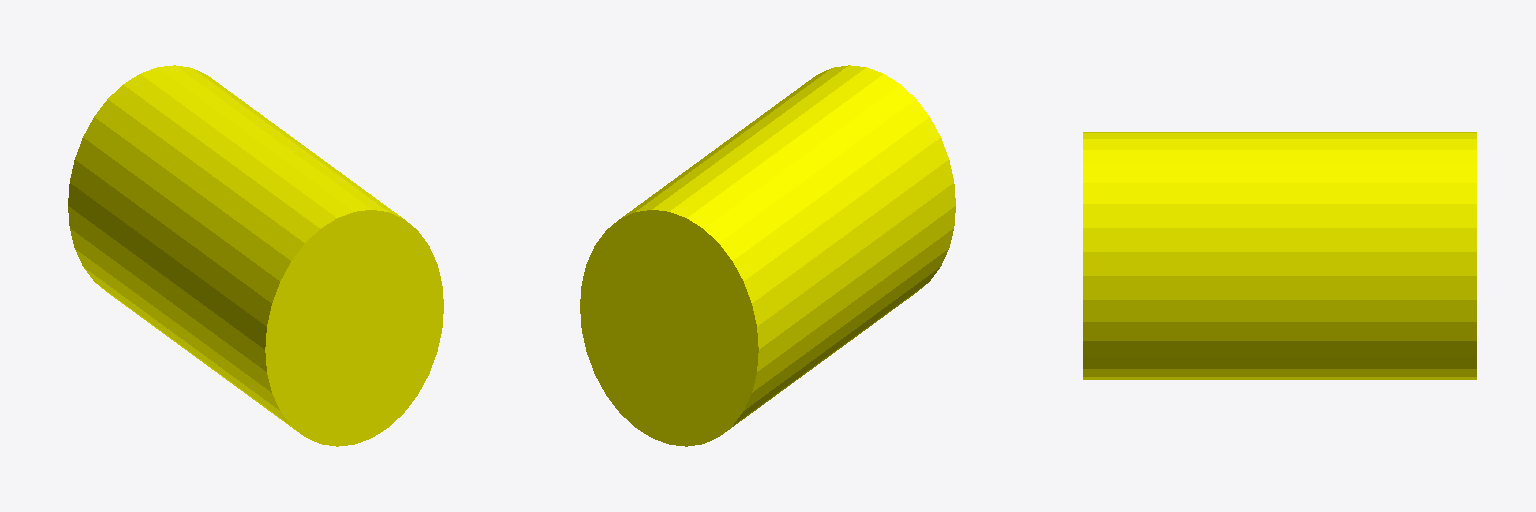
File: Gkuka3.obj
3 renders of one model, left to right at view 1: azimuth 30°, elevation 25°; view 2: azimuth 150°, elevation 25°; view 3: azimuth 270°, elevation 25°, orthographic.
Parts seen in each view (by area): view 1: unnamed_object1; view 2: unnamed_object1; view 3: unnamed_object1.
Boxes of the visible parts, x1,y1,x2,y2 form: unnamed_object1: [68, 65, 443, 446]; unnamed_object1: [580, 65, 955, 446]; unnamed_object1: [1083, 132, 1476, 379].
Size of the model in its own units: 0.1317 by 0.164 by 0.2518.